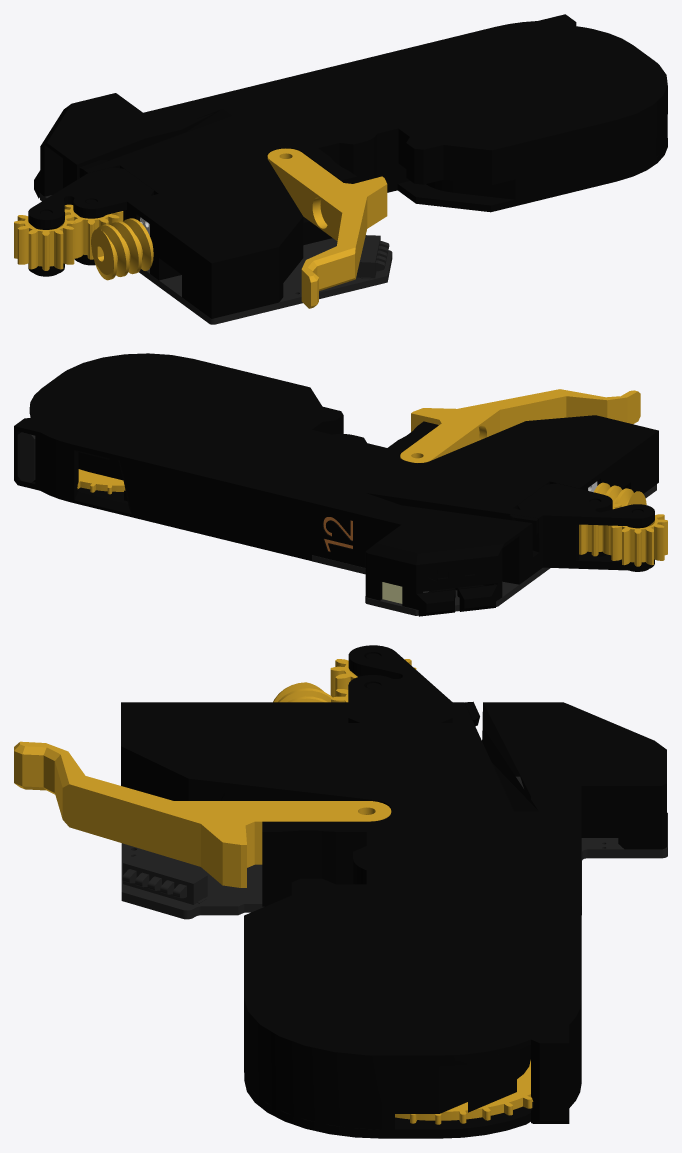
File: 12mm-feeder.glb
3 views of the same model, one above another, from view 1: azimuth 30°, elevation 25°; view 2: azimuth 150°, elevation 25°; view 3: azimuth 270°, elevation 25° (orthographic). The views are drawn at different scales.
Visible parts, largest first — view 1: frame-12_Body_001, release-lever_Body_001, peel-gear-frame-8-12_Body_001, controllerPCB_001, peel-worm-gear_Body_001, drive-motor-cover_Body_002, peel-gear_Body_002, peel-gear_Body_001; view 2: frame-12_Body_001, release-lever_Body_001, peel-gear-frame-8-12_Body_001, peel-gear_Body_002, controllerPCB_001, peel-gear_Body_001, Body001, indexing-wheel-pcb_Pcb_6bbf_001, peel-worm-gear_Body_001; view 3: frame-12_Body_001, release-lever_Body_001, controllerPCB_001, peel-gear-frame-8-12_Body_001, drive-motor-cover_Body_002, indexing-wheel-pcb_Pcb_6bbf_001, peel-worm-gear_Body_001.
Boxes of the visible parts, <box> form: frame-12_Body_001: <box>34,14,667,318</box>; release-lever_Body_001: <box>267,148,387,308</box>; peel-gear-frame-8-12_Body_001: <box>28,167,153,275</box>; controllerPCB_001: <box>40,193,392,324</box>; peel-worm-gear_Body_001: <box>91,218,153,280</box>; drive-motor-cover_Body_002: <box>387,138,667,212</box>; peel-gear_Body_002: <box>14,215,77,270</box>; peel-gear_Body_001: <box>64,204,123,259</box>; frame-12_Body_001: <box>14,353,658,616</box>; release-lever_Body_001: <box>400,389,640,462</box>; peel-gear-frame-8-12_Body_001: <box>517,483,654,570</box>; peel-gear_Body_002: <box>609,514,667,566</box>; controllerPCB_001: <box>312,484,656,615</box>; peel-gear_Body_001: <box>579,503,621,556</box>; Body001: <box>17,432,35,482</box>; indexing-wheel-pcb_Pcb_6bbf_001: <box>77,469,125,494</box>; peel-worm-gear_Body_001: <box>594,482,646,506</box>; frame-12_Body_001: <box>121,701,666,1129</box>; release-lever_Body_001: <box>14,741,391,887</box>; controllerPCB_001: <box>121,776,667,919</box>; peel-gear-frame-8-12_Body_001: <box>348,645,452,722</box>; drive-motor-cover_Body_002: <box>244,1074,533,1138</box>; indexing-wheel-pcb_Pcb_6bbf_001: <box>395,1060,533,1124</box>; peel-worm-gear_Body_001: <box>273,682,332,702</box>.
Bounding box in the file's own units: 0.1614 × 0.0153 × 0.1065.
